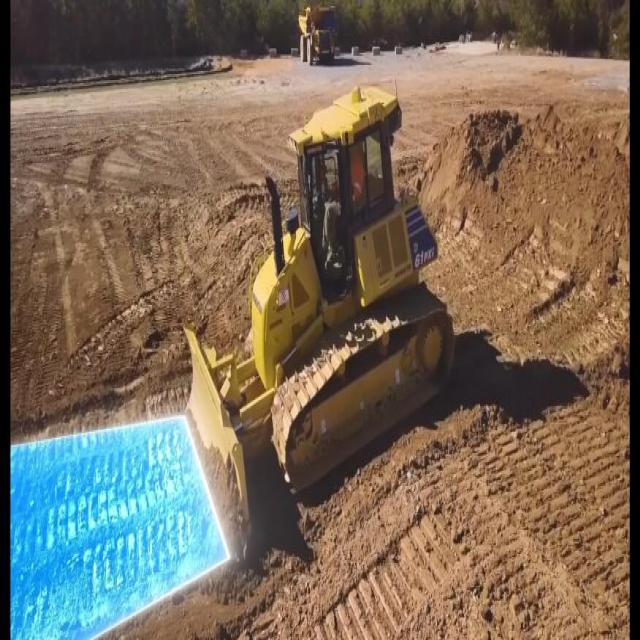Bulldozer: (167, 70, 473, 568)
